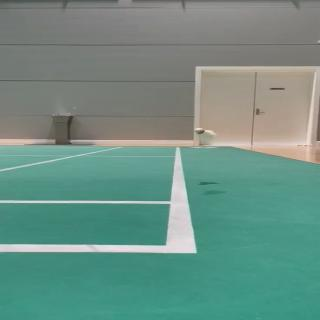Shuttle: (194, 128, 216, 142)
